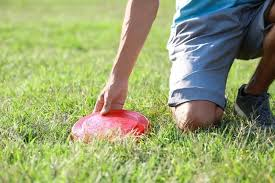disc: (72, 108, 154, 143)
